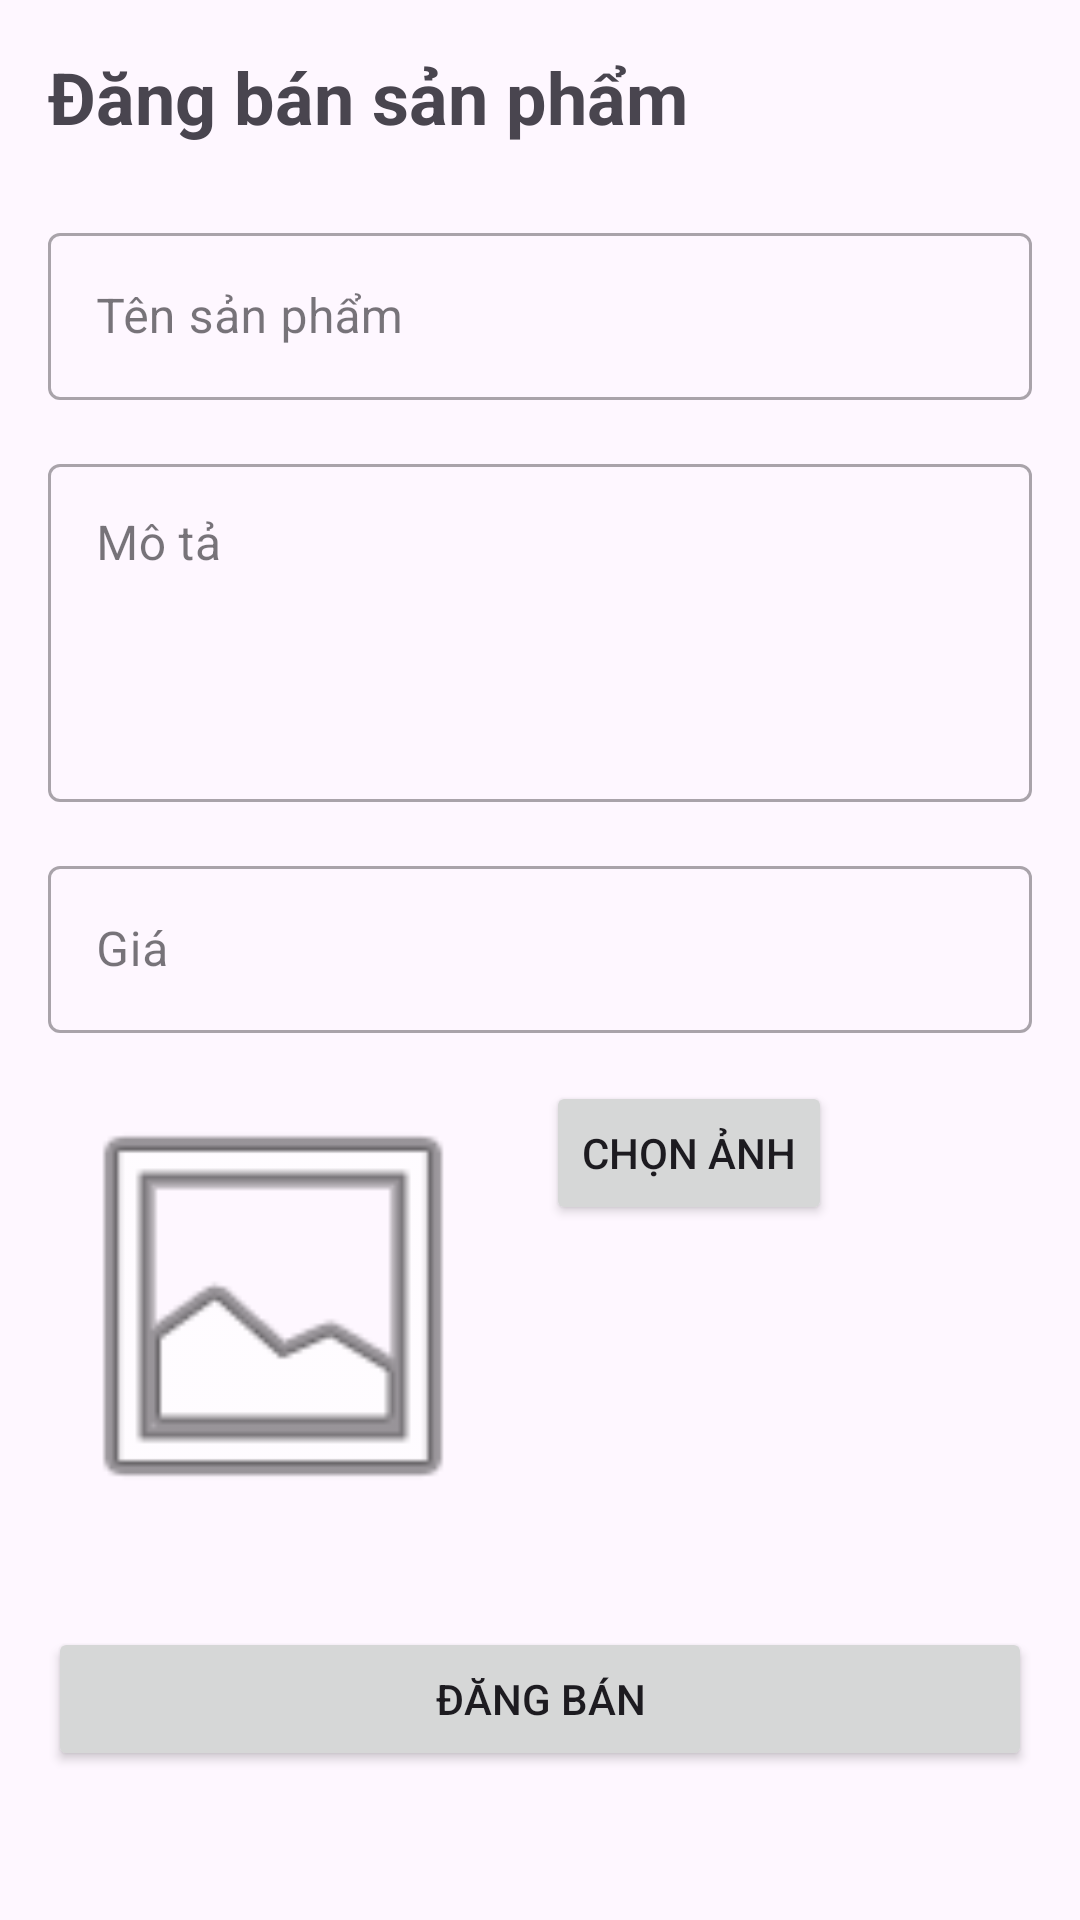

Where to tap for icons on this 1080×1920 app screen, as (x=x, y=y):
gallery: (x=273, y=1306)
